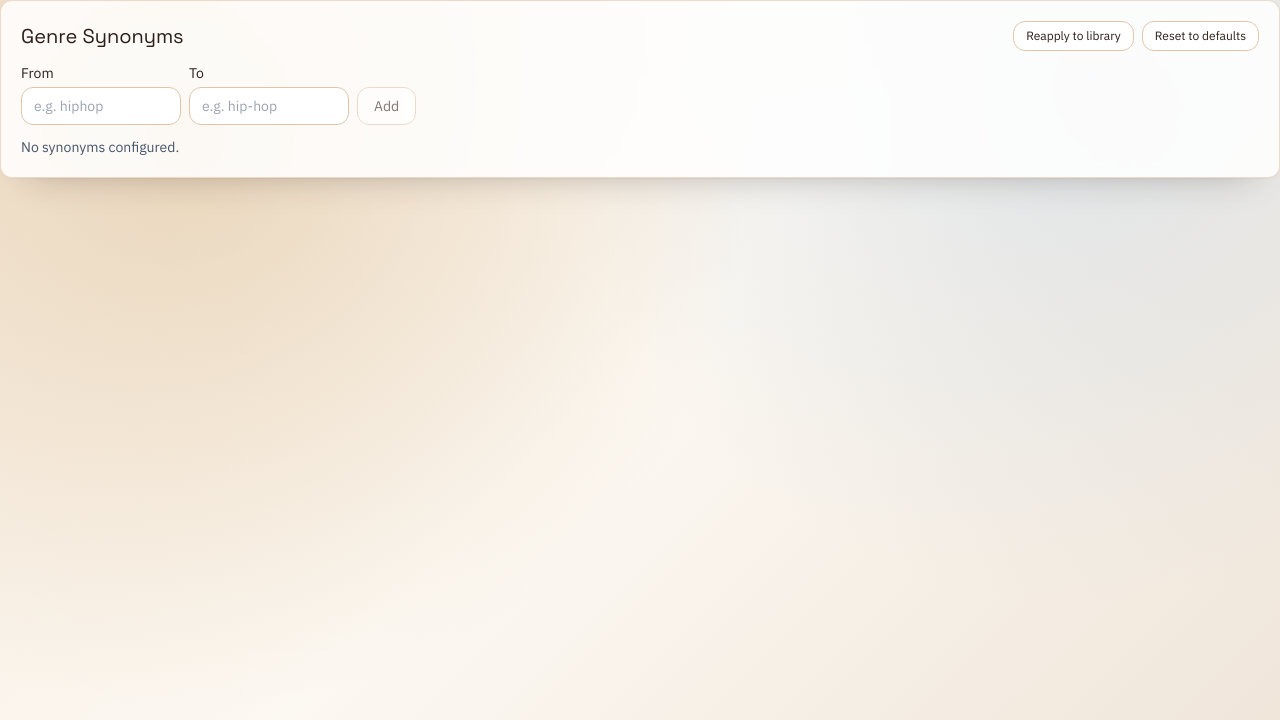
GenreSynonymsPanel › reports the reapply counts in the status line
Click the button "Reapply to library": (1074, 36) [1013,21,1134,51]
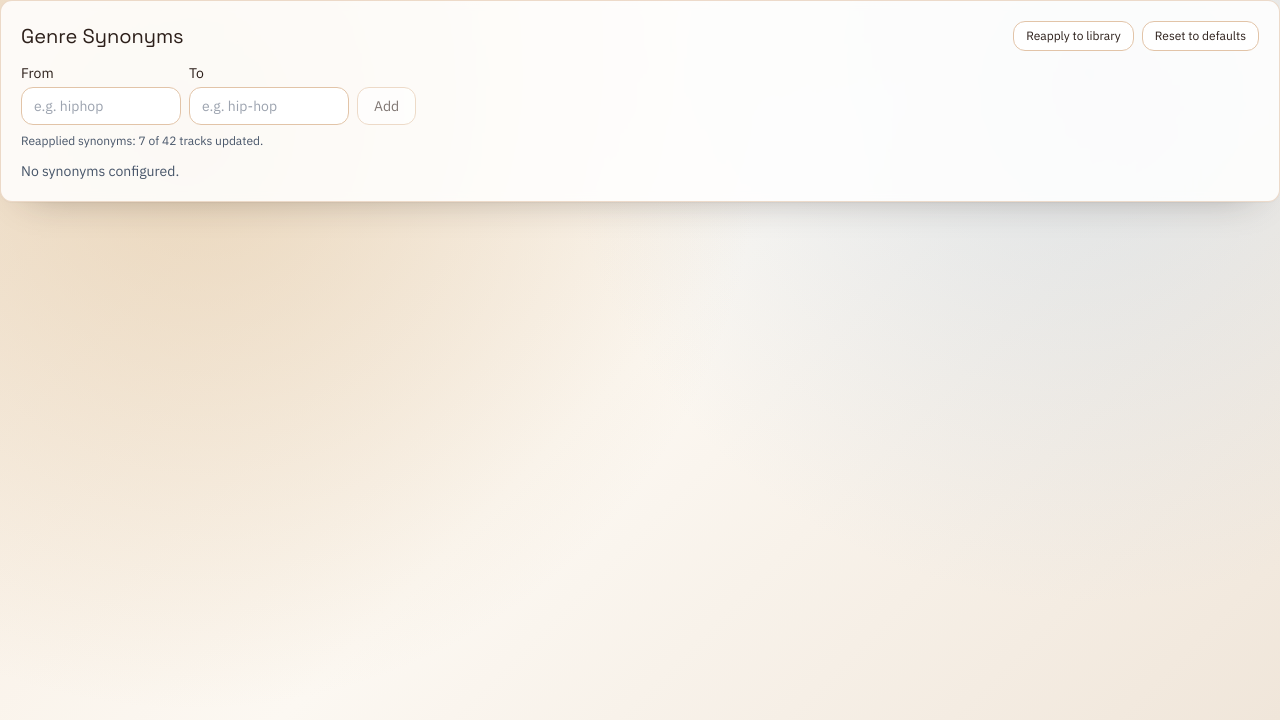
expect the text "Reapplied synonyms: 7 of 42 tracks updated." is shown: met, box [21,133,263,148]
